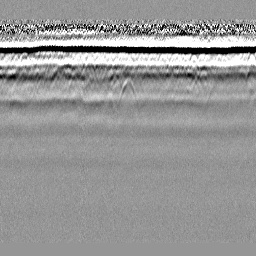cavity: (117, 75, 139, 106)
